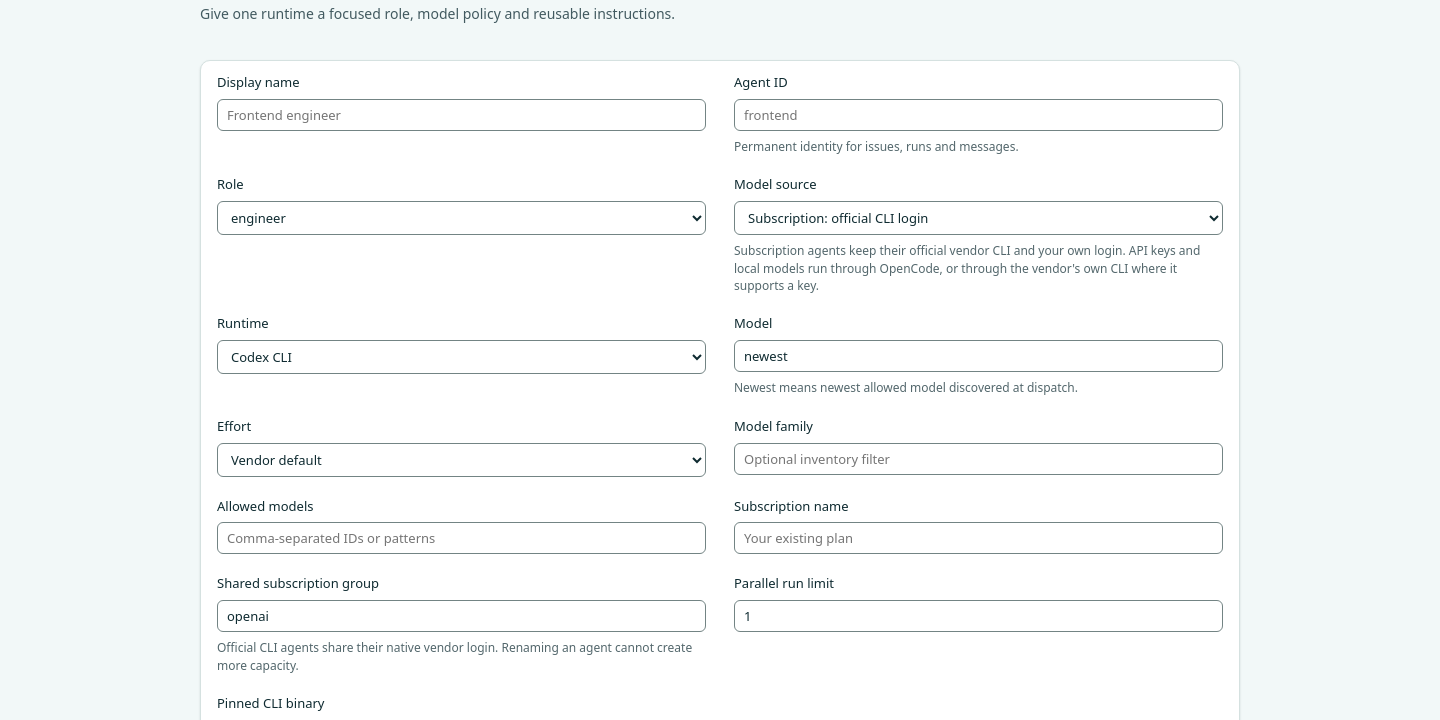
agent builder › local Ollama is free; pay-per-token sources require reviewed cost approval
Select "Ollama local models (free)" in the dropdown labelled "Model source" at coordinates (978, 218), box [734,201,1223,235]
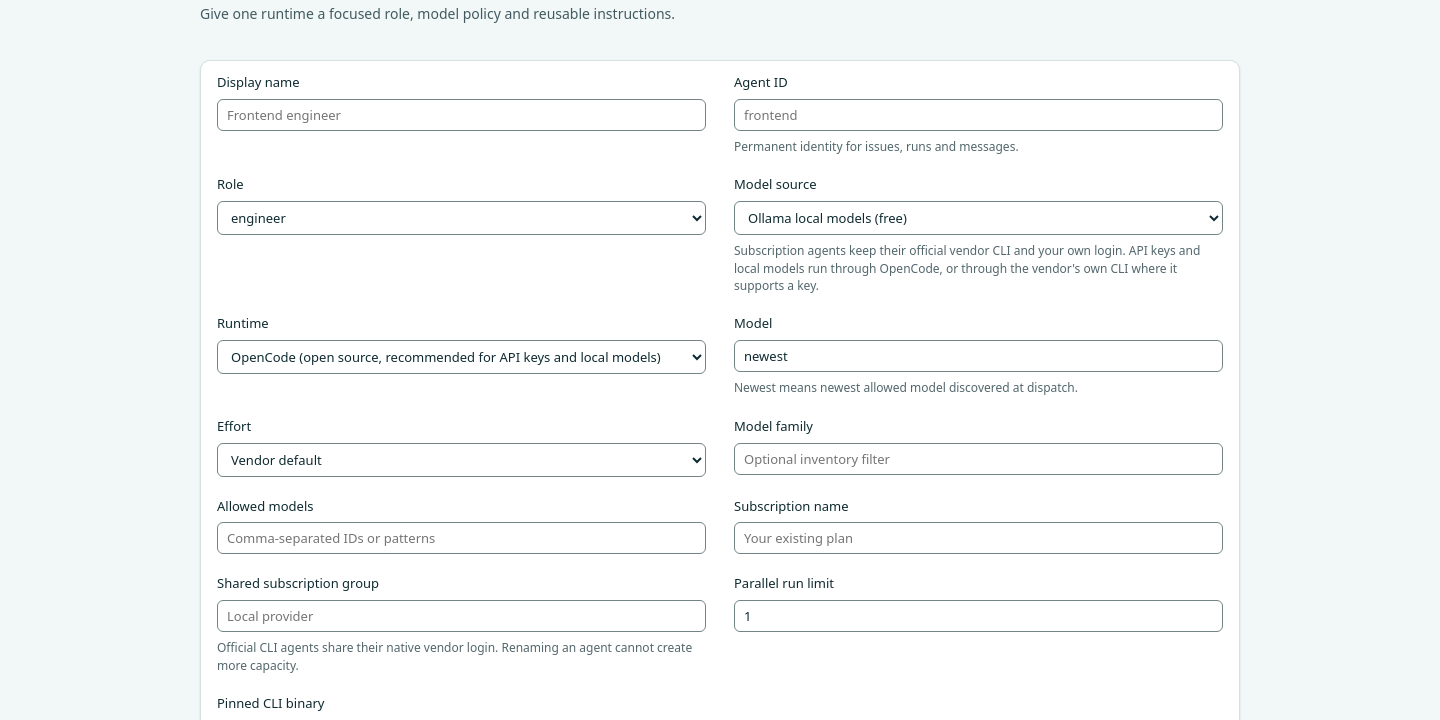
Select "OpenRouter API key (pay per token)" in the dropdown labelled "Model source" at coordinates (978, 218), box [734,201,1223,235]
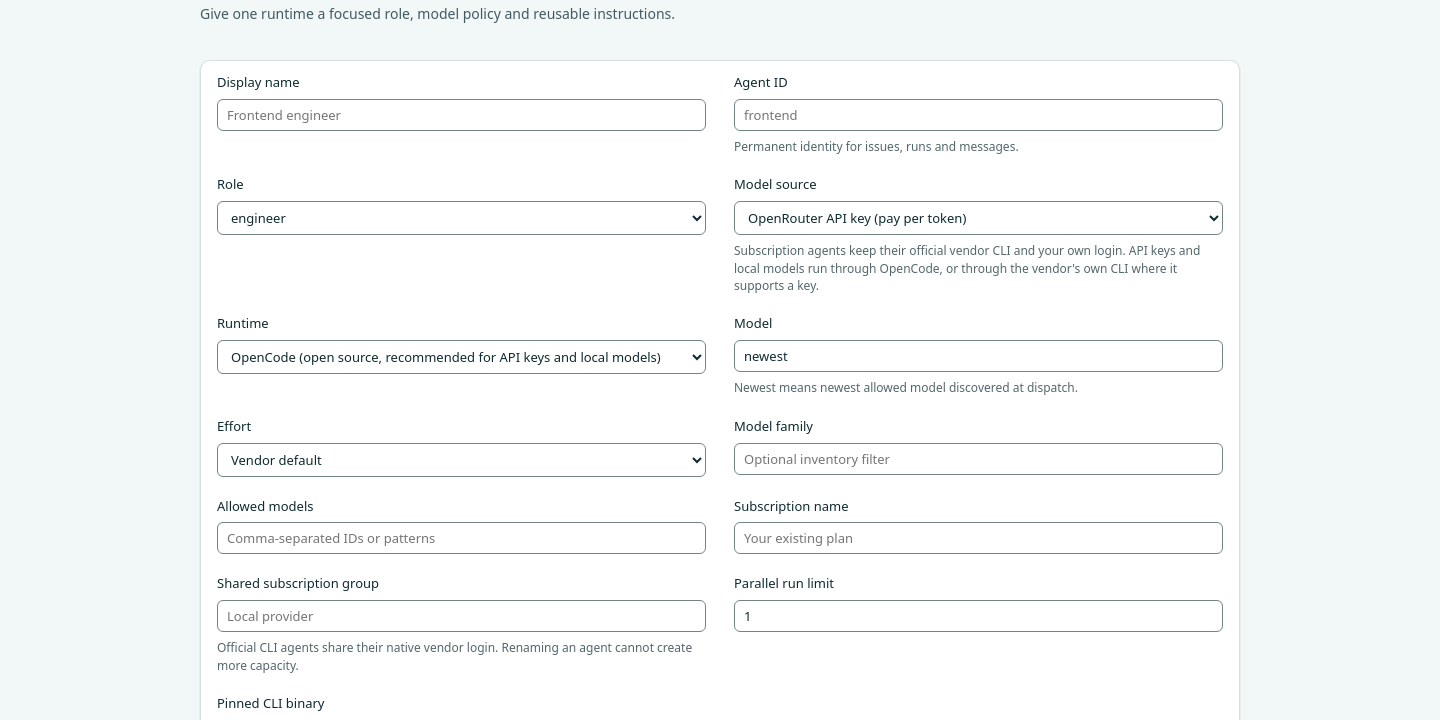
Check: the button "Save agent draft" is not shown
Select "Subscription: official CLI login" in the dropdown labelled "Model source" at coordinates (978, 218), box [734,201,1223,235]
(page scrolled)
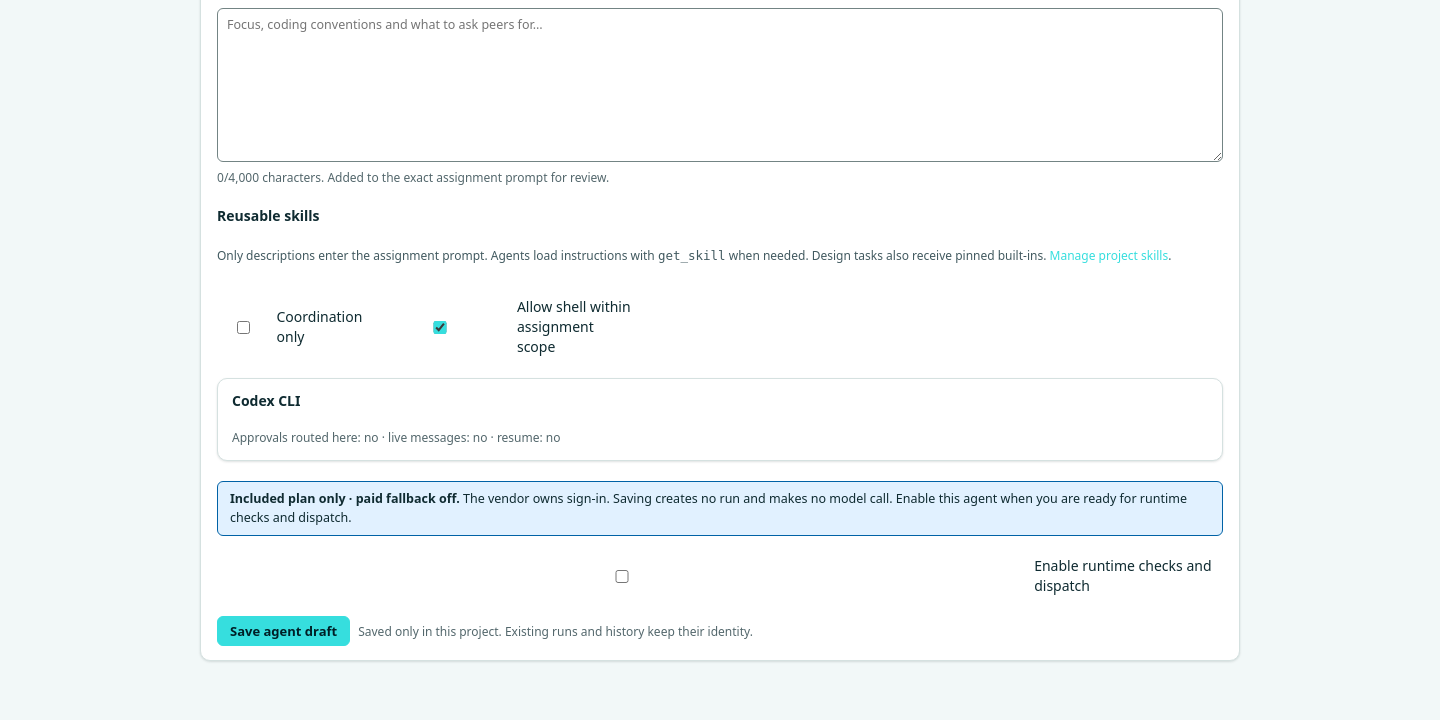
Check: the text "Included plan only · paid fallback off." is shown, box [230,490,460,508]
